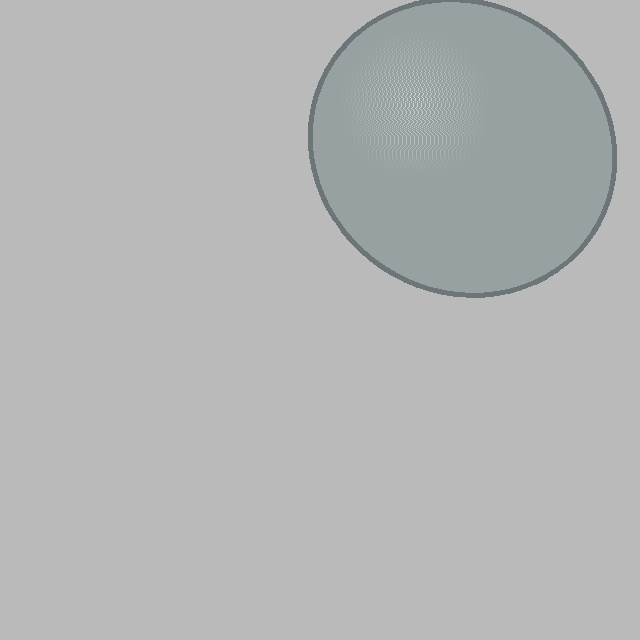lens: (310, 0, 614, 294)
